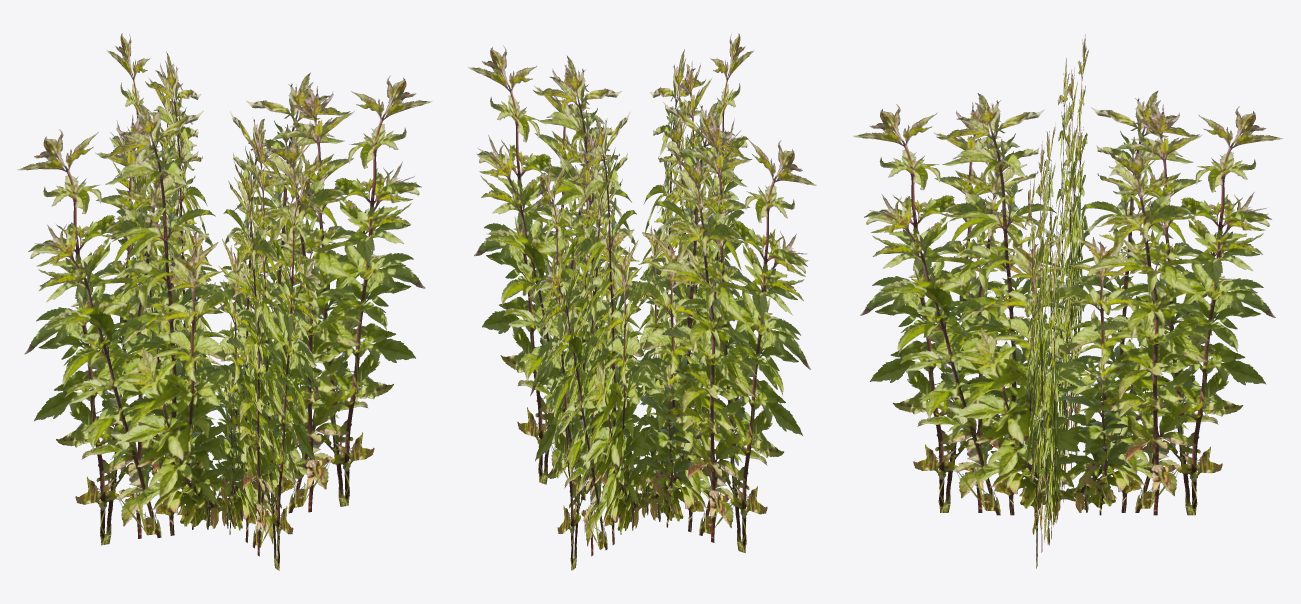
Rendered from SM_Plant_Grass_01.fbx.
3 renders of one model, left to right at view 1: azimuth 30°, elevation 25°; view 2: azimuth 150°, elevation 25°; view 3: azimuth 270°, elevation 25°, orthographic. The views are drawn at different scales.
Parts seen in each view (by area): view 1: SM_Plant_Grass_01; view 2: SM_Plant_Grass_01; view 3: SM_Plant_Grass_01.
Part boxes in pixels (x1,y1,x2,y2): SM_Plant_Grass_01: [17, 33, 432, 570]; SM_Plant_Grass_01: [468, 33, 816, 570]; SM_Plant_Grass_01: [853, 34, 1282, 568].
Size of the model in its own units: 252 by 276 by 255.
